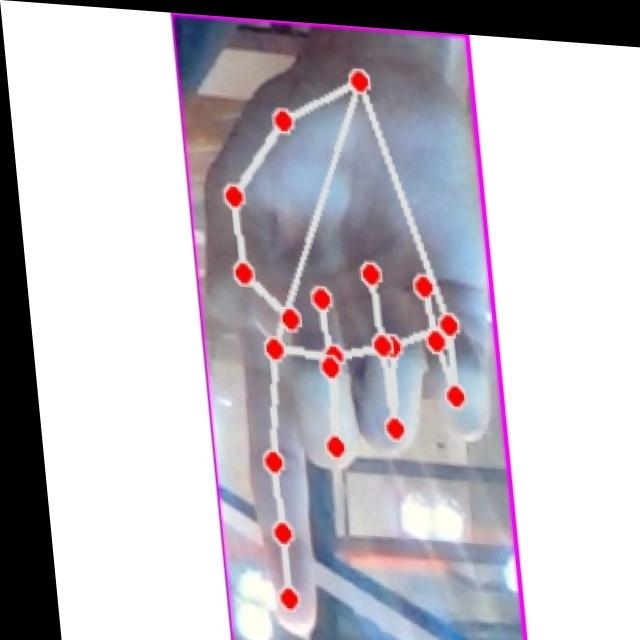D: (182, 38, 507, 640)
